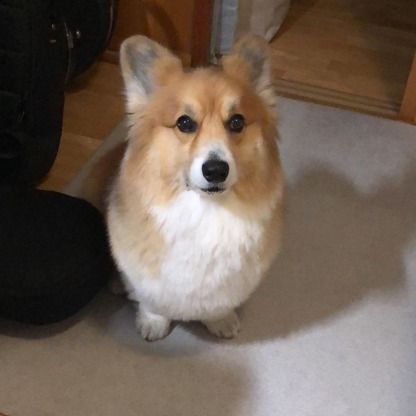Corgi: (83, 27, 303, 346)
